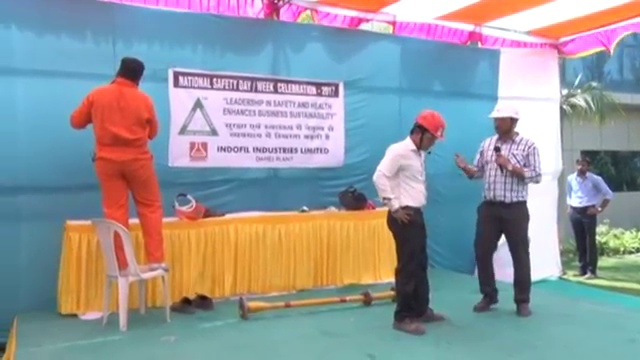helmet: (415, 108, 445, 140), (484, 101, 522, 121)
helmet_off: (116, 56, 147, 87), (573, 155, 591, 178)
helmet_on: (409, 109, 445, 153), (484, 102, 522, 140)
person: (66, 58, 170, 273), (457, 102, 542, 320), (367, 108, 448, 336), (562, 156, 614, 279)
